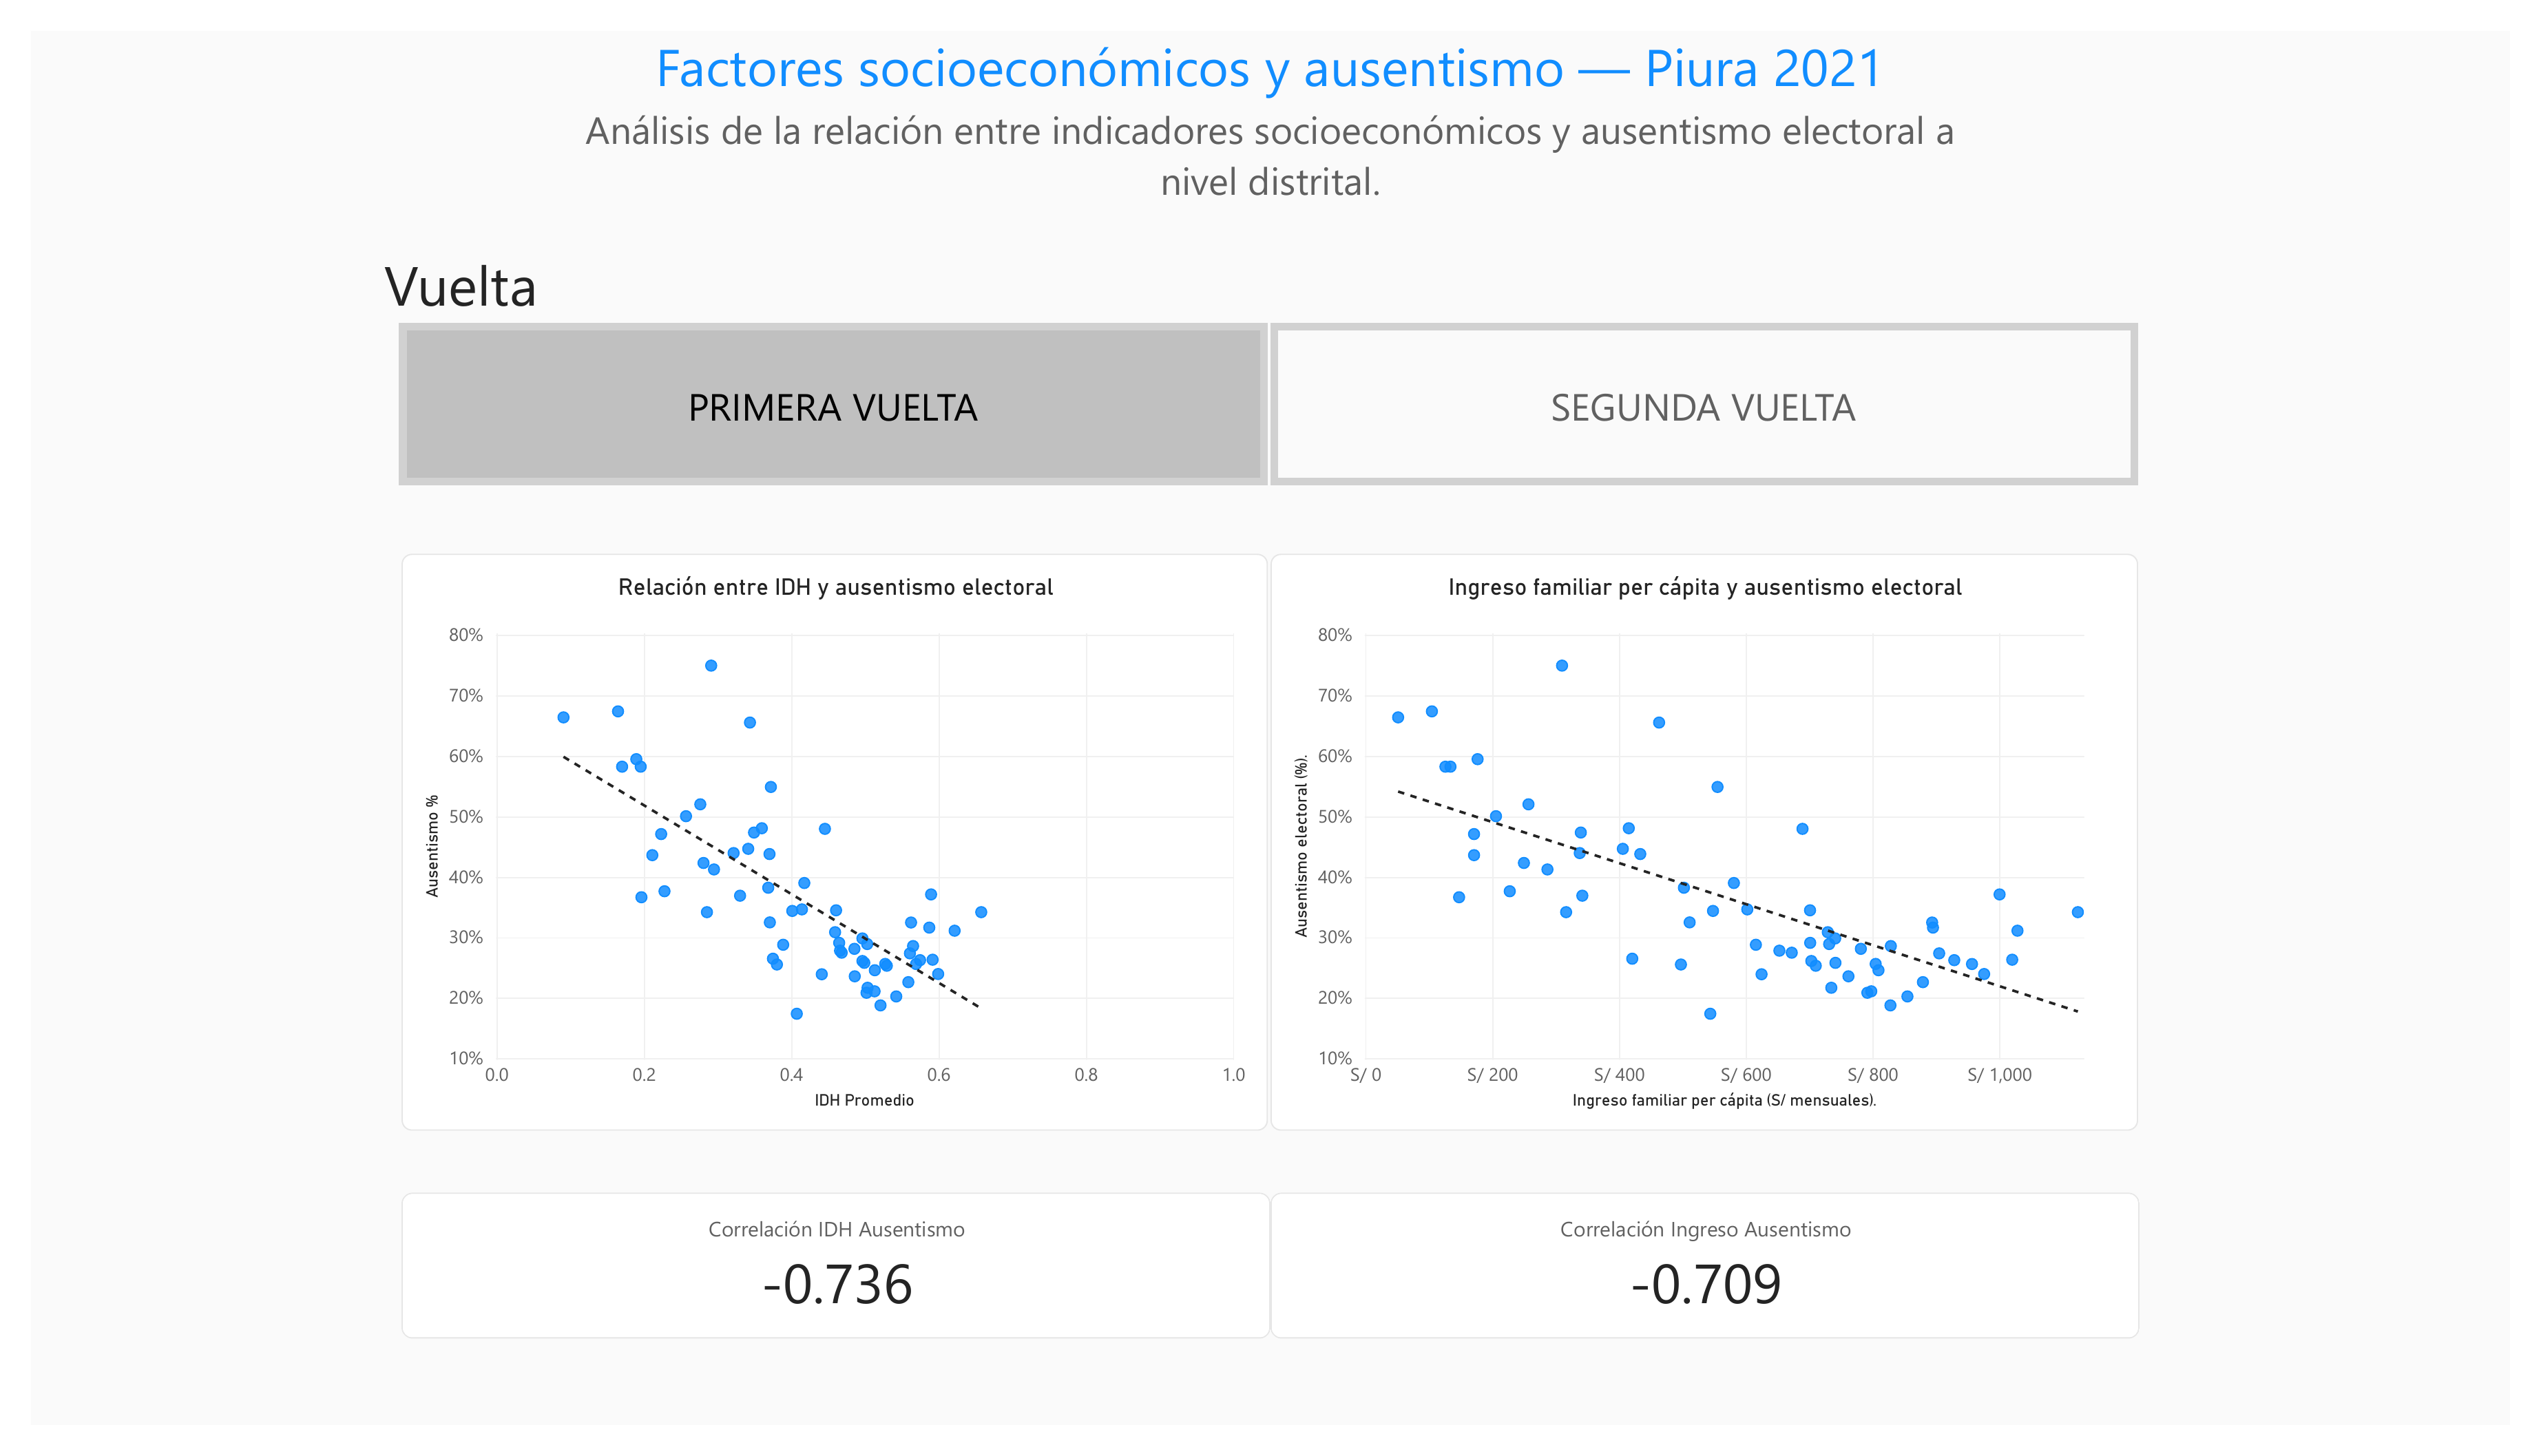

This screenshot's page, from the dashboard's own definition file:
{"tool":"powerbi","page":{"name":"03 — Factores socioeconómicos","canvas":[1920,1080],"ordinal":2},"visuals":[{"type":"textbox","title":"Factores socioeconómicos y ausentismo — Piura 2021","box":[410,0,1100,147.5],"z":0},{"type":"slicer","fields":{"Values":["FACT_PARTICIPACION.VUELTA"]},"box":[265.5,166.7,1385.3,185.2],"z":1000},{"type":"scatterChart","title":"Relación entre IDH y ausentismo electoral","fields":{"Category":["DIM_TERRITORIO.UBIGEO"],"X":["_MEDIDAS.IDH Promedio"],"Y":["_MEDIDAS.Ausentismo %"]},"box":[286.7,405,671.7,446.7],"z":2000},{"type":"scatterChart","title":"Ingreso familiar per cápita y ausentismo electoral","fields":{"Category":["DIM_TERRITORIO.UBIGEO"],"X":["_MEDIDAS.Ingreso PC Promedio"],"Y":["_MEDIDAS.Ausentismo %"]},"box":[960,405,671.7,446.7],"z":3000},{"type":"cardVisual","fields":{"Data":["_MEDIDAS.Correlación IDH Ausentismo"]},"box":[286.7,900,673.3,113.3],"z":4000},{"type":"cardVisual","fields":{"Data":["_MEDIDAS.Correlación Ingreso Ausentismo"]},"box":[960,900,673.3,113.3],"z":5000}]}

Visuals, with their boxes in screenshot pixels (x1, y1, x2, y2), scaled from the page's 1920x1080 canvas onto the 2541x1456 screenshot:
"Factores socioeconómicos y ausentismo — Piura 2021" textbox: {"left": 543, "top": 0, "right": 1998, "bottom": 199}
slicer - FACT_PARTICIPACION.VUELTA: {"left": 351, "top": 224, "right": 2185, "bottom": 474}
"Relación entre IDH y ausentismo electoral" scatterChart: {"left": 379, "top": 546, "right": 1268, "bottom": 1148}
"Ingreso familiar per cápita y ausentismo electoral" scatterChart: {"left": 1270, "top": 546, "right": 2160, "bottom": 1148}
cardVisual - _MEDIDAS.Correlación IDH Ausentismo: {"left": 379, "top": 1213, "right": 1270, "bottom": 1366}
cardVisual - _MEDIDAS.Correlación Ingreso Ausentismo: {"left": 1270, "top": 1213, "right": 2162, "bottom": 1366}
